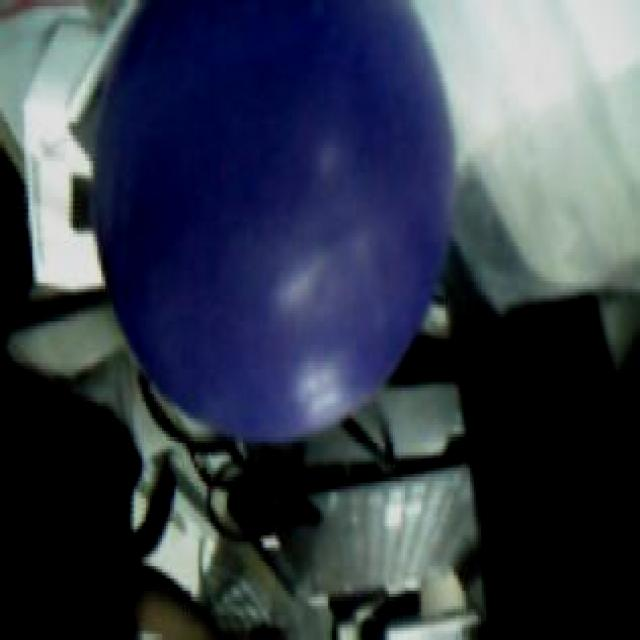BallPurple: (93, 0, 454, 446)
